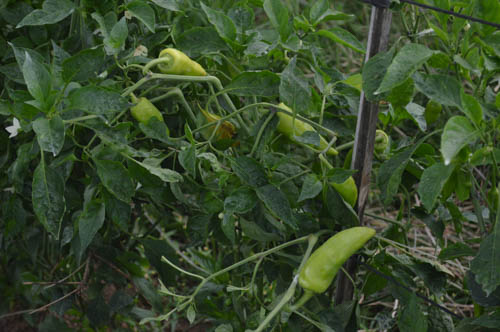ChiliPepper: (298, 224, 367, 292), (276, 106, 338, 152), (159, 50, 206, 78), (135, 100, 162, 133)
